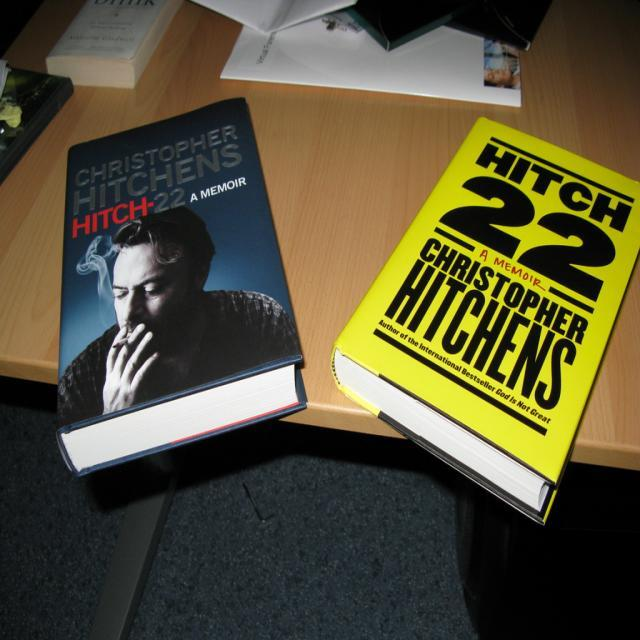book: (325, 114, 640, 530), (51, 93, 313, 487), (45, 1, 188, 88)
